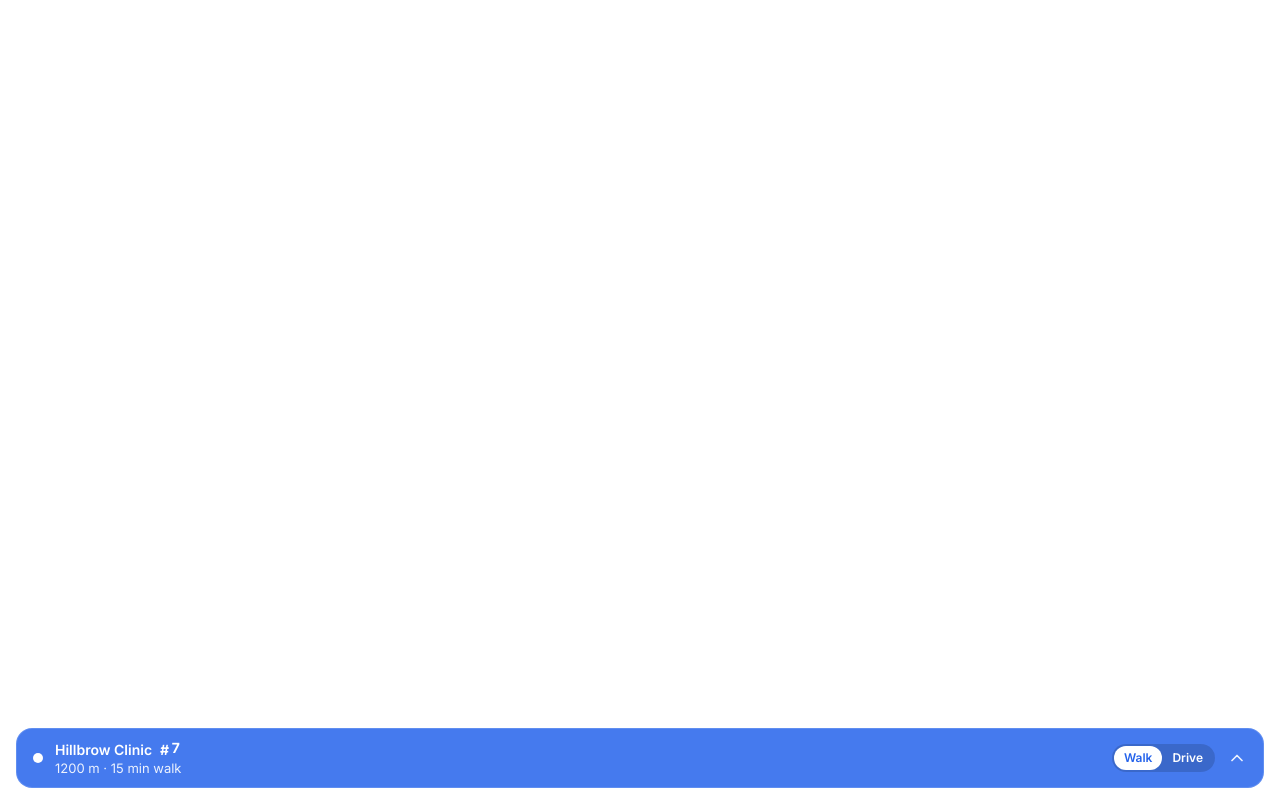
Test case: FlowBar › shows distance/ETA in expanded state when a route is active
The width and height of the screenshot is (1280, 800).
Later steps or results of the test are not shown.
Click the element with test id "flow-bar" at (640, 758), box x1=16 y1=728 x2=1264 y2=788
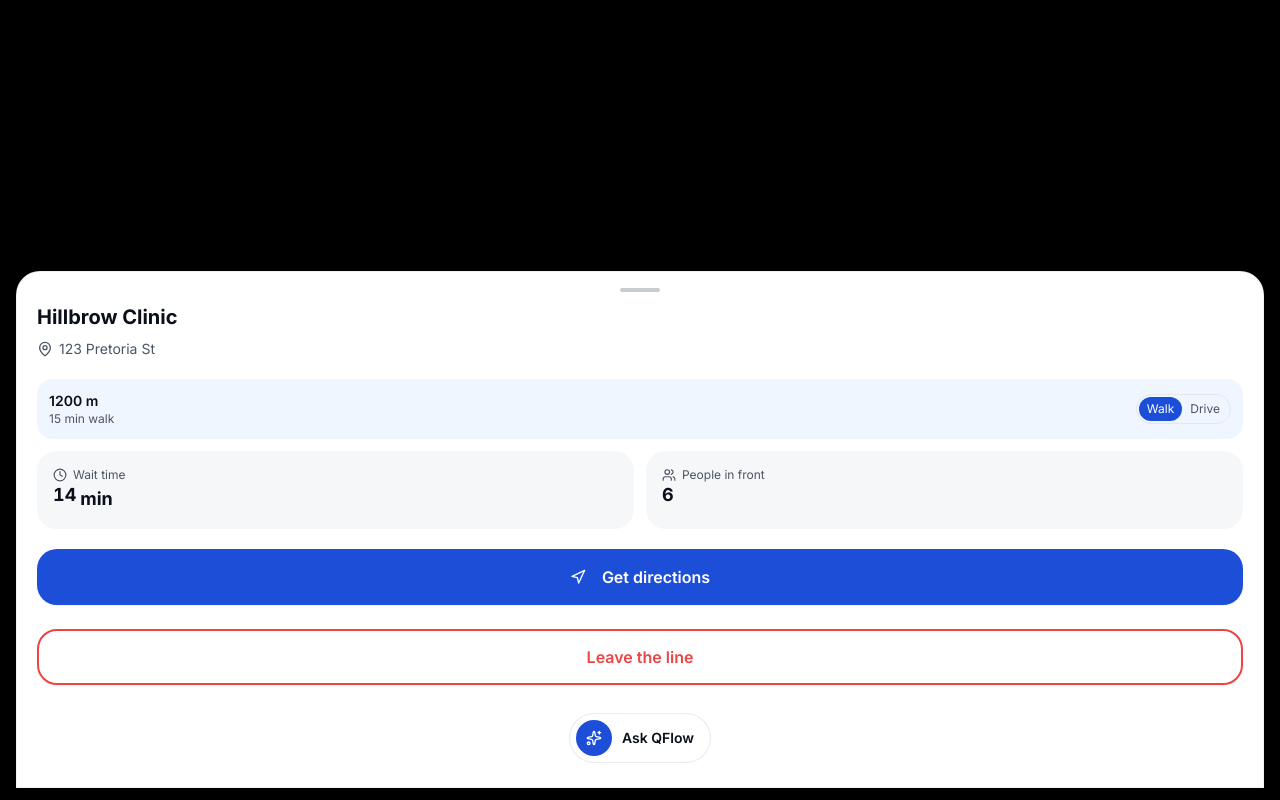
Expected: the text "1200 m" is shown, x1=49 y1=392 x2=98 y2=409
Now the dialog with test id "flow-bar-expanded" is shown
